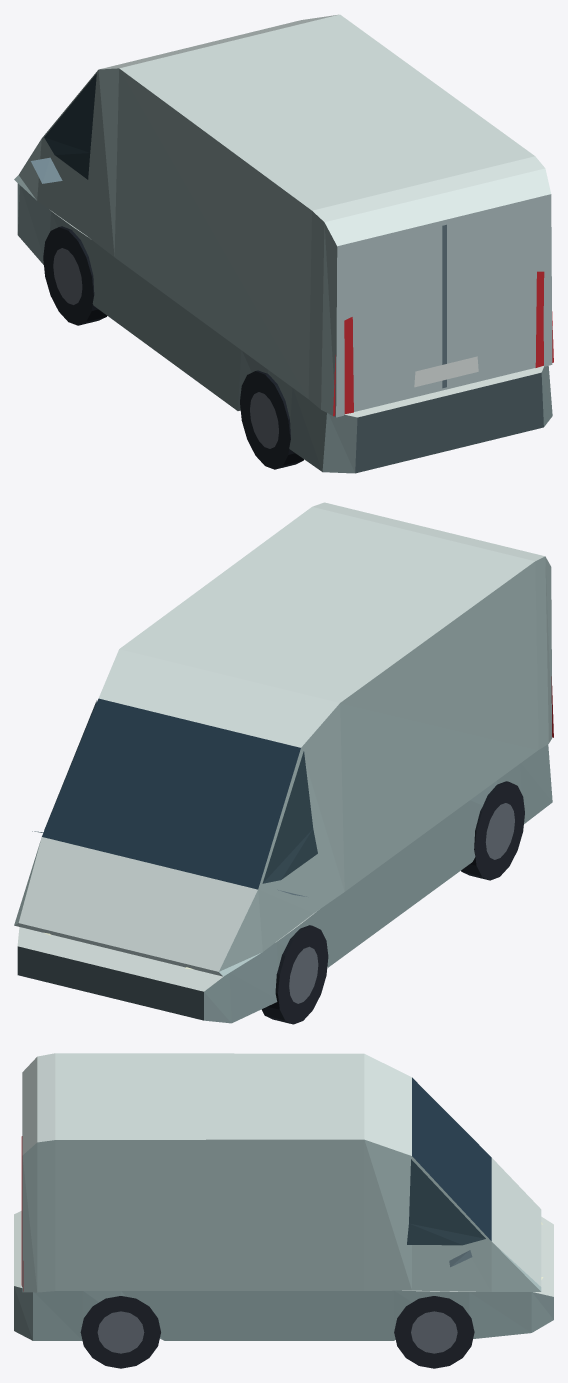
File: drive_van.glb
3 renders of one model, top to bottom at view 1: azimuth 30°, elevation 25°; view 2: azimuth 150°, elevation 25°; view 3: azimuth 270°, elevation 25°, orthographic. The views are drawn at different scales.
Bounding box in the file's own units: 2.32 × 2.36 × 5.1.
